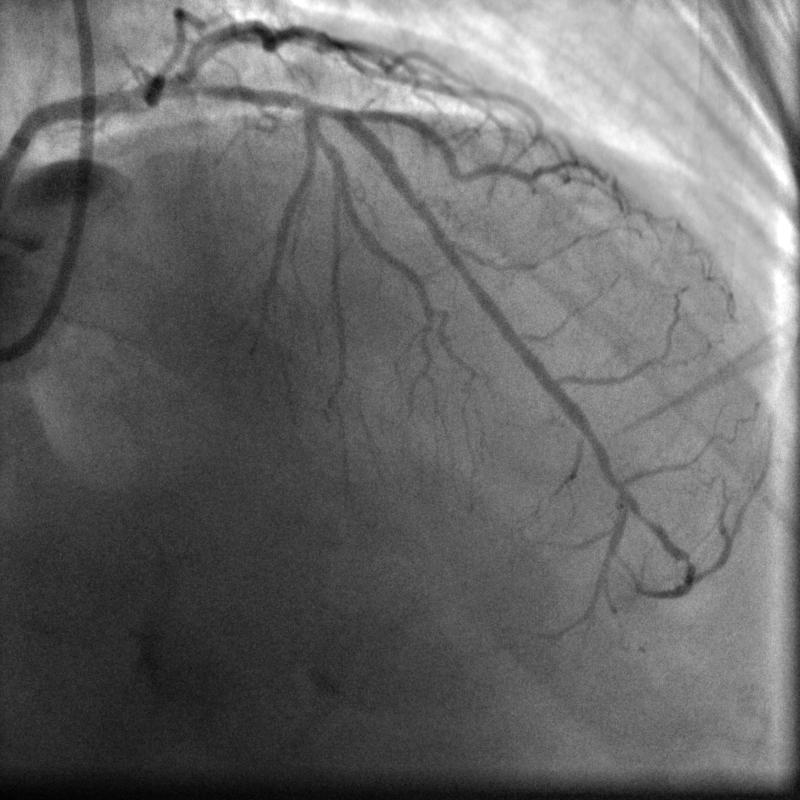Stenosis: (182, 80, 251, 105)
